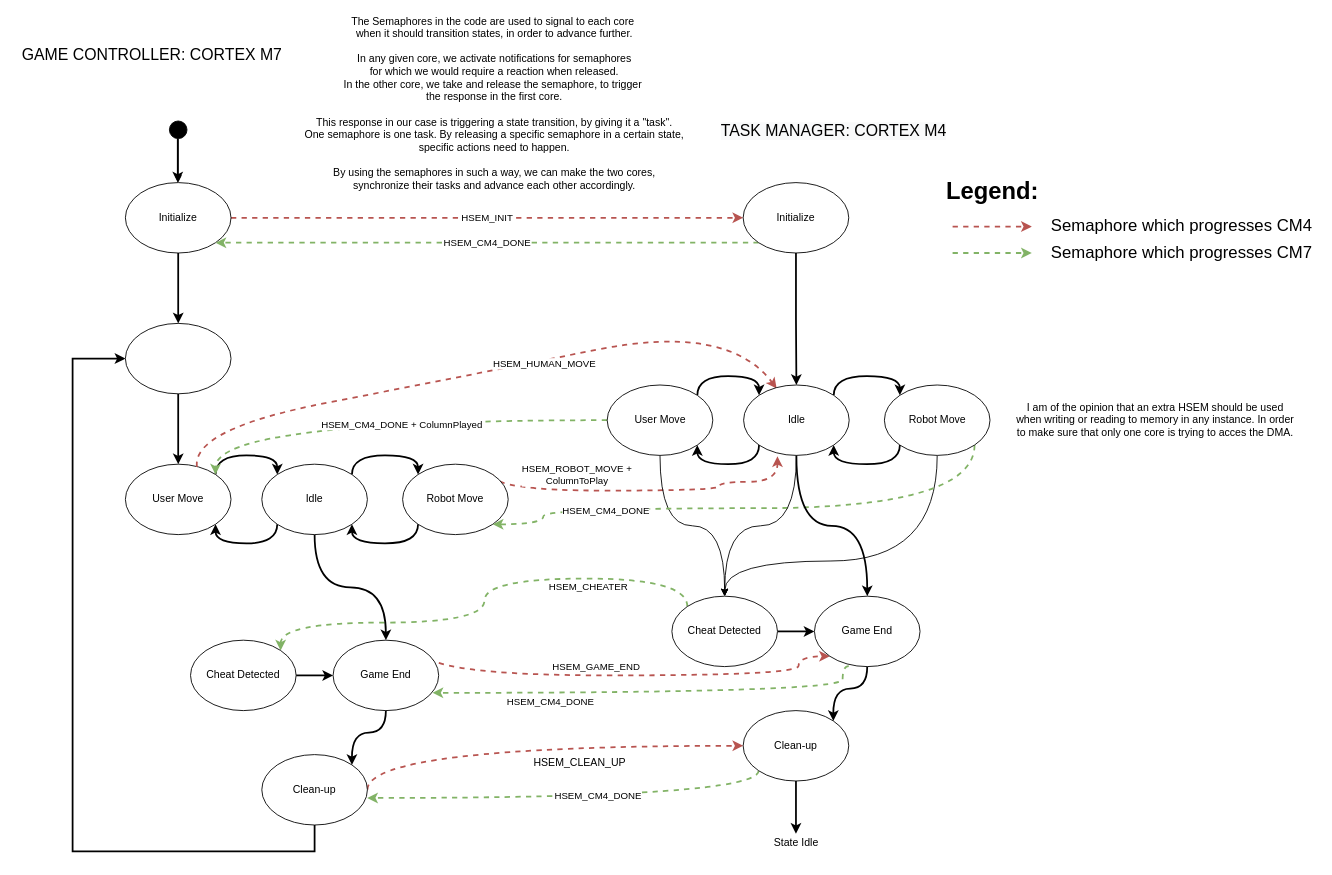
Some shapes in this 1332 by 875 pixel diagram are drawn without their labels. The box of each missing label's shape, as (x1, y1, x2, y2) in pixels:
Boot From CM7: (169, 120, 187, 139)
Start Game: (125, 323, 231, 394)
